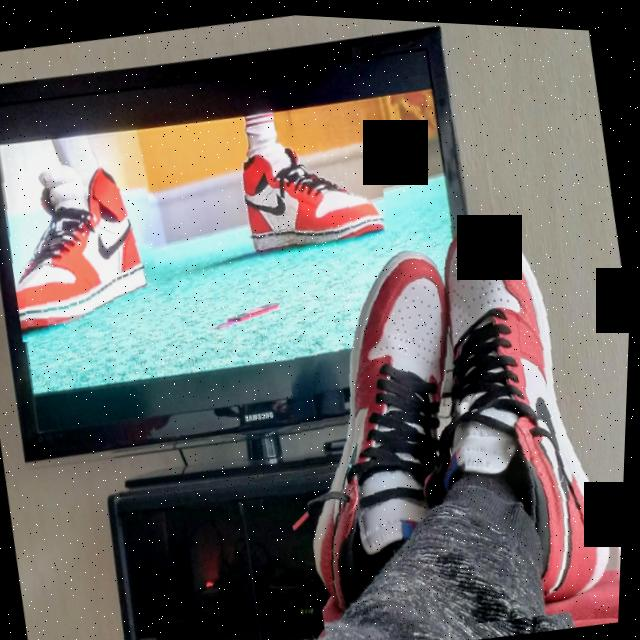shoe: (393, 184, 635, 626), (265, 227, 512, 639), (0, 143, 175, 347), (228, 111, 397, 273)
